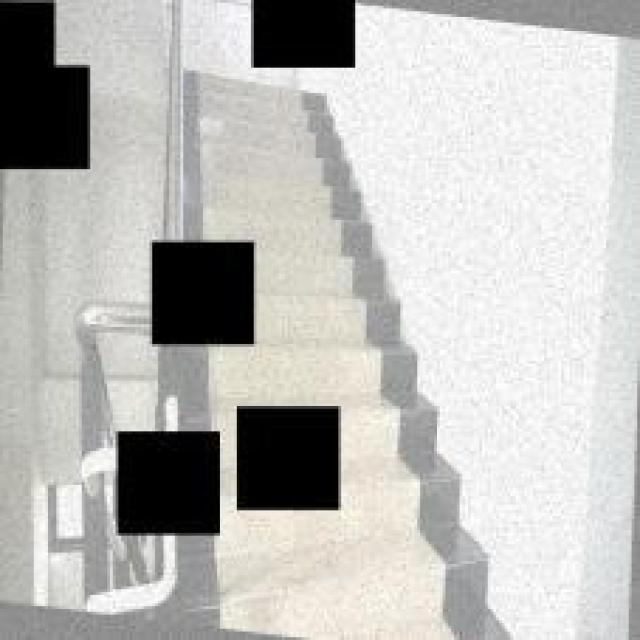upstair: (202, 71, 340, 221)
